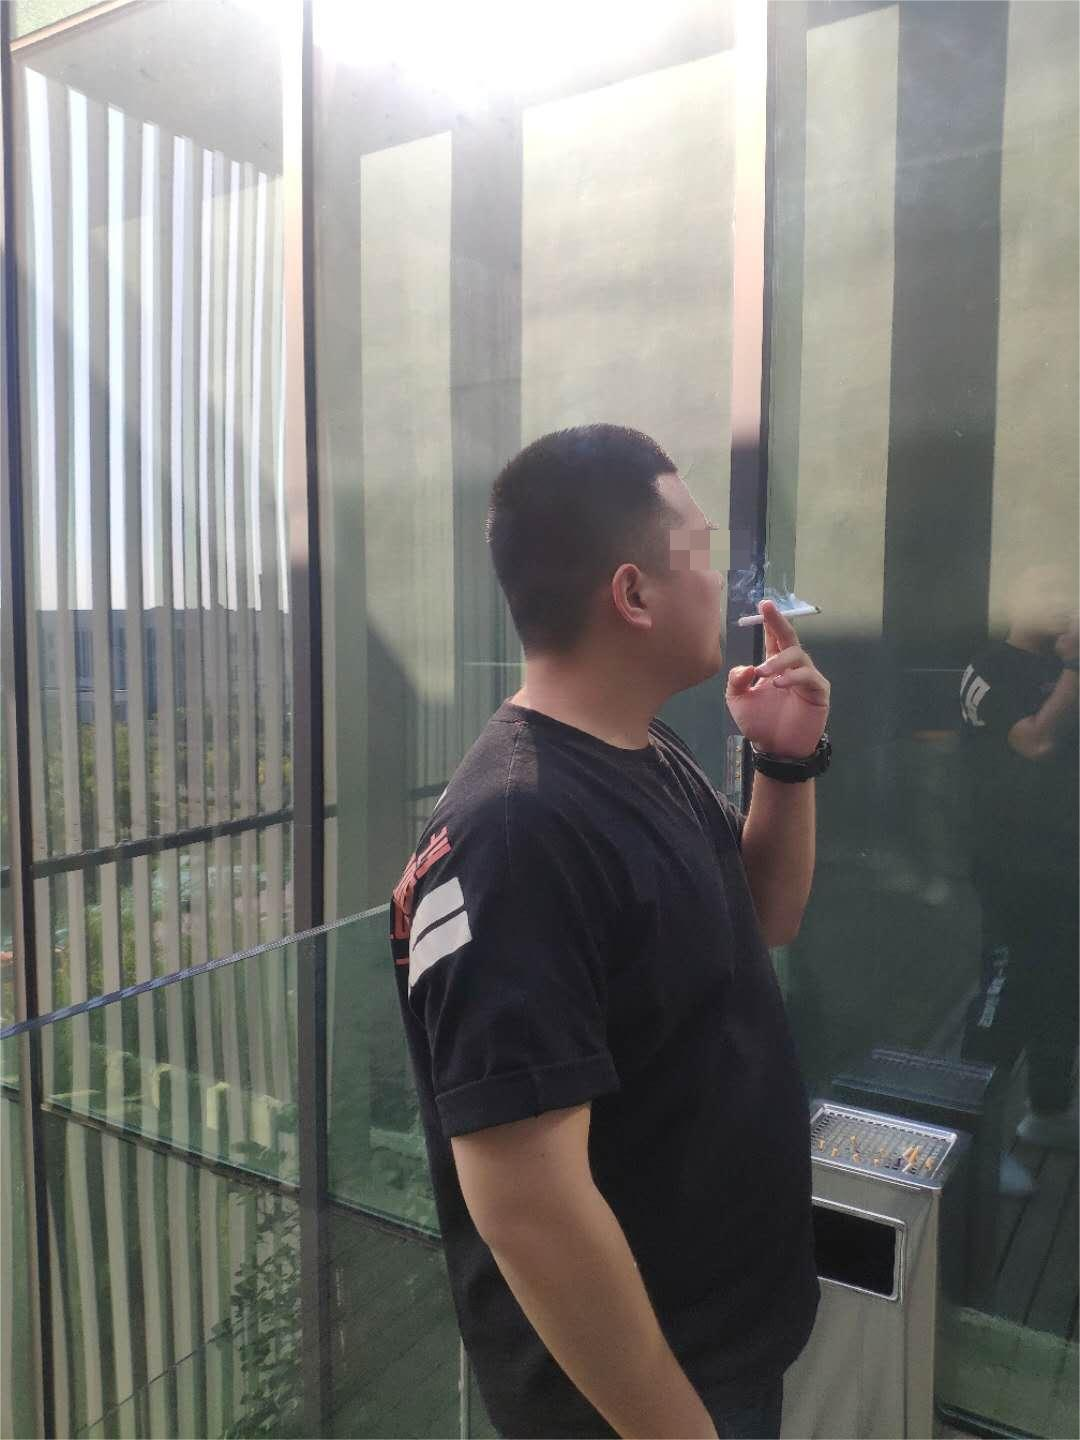smoke: (734, 596, 826, 632)
